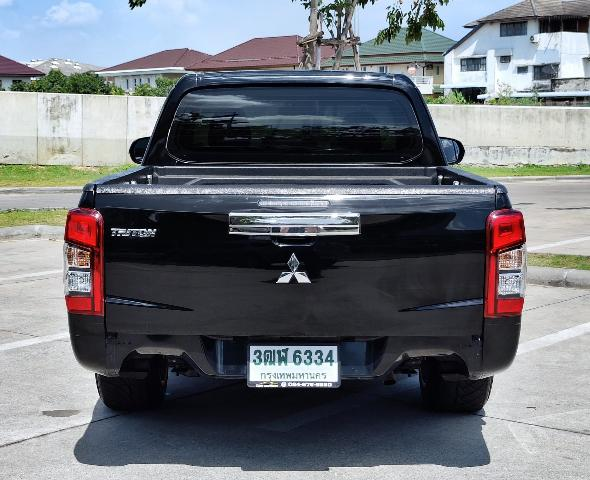pickup-truck: (50, 55, 536, 438)
